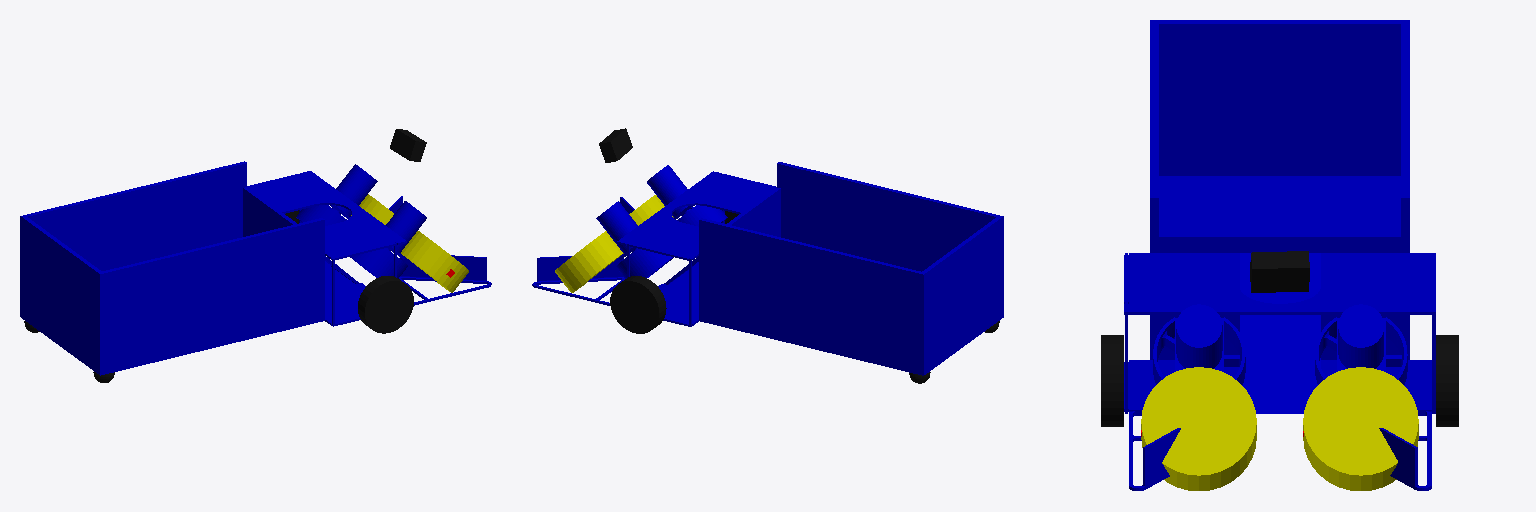
URDF robot description (tennis_bot):
<?xml version="1.0"?>
<robot name="tennis_bot">

  <!-- 註解方式 -->
  <link name="base_link">
  </link>

  <joint name="base_to_chassis" type="fixed">
    <parent link="base_link"/>
    <child link="front_chassis"/>
    <origin xyz="0 0 0.02" rpy="0 0 -1.5708"/>  
  </joint>
  <joint name="base_to_rear" type="fixed">
    <parent link="base_link"/>
    <child link="rear_basket"/>
    <origin xyz="0 -0.01 0" rpy="0 0 -1.5708"/> 
  </joint>
  
  <!-- 前車體 -->
  <link name="front_chassis">
    <visual>
      <geometry>
        <mesh filename="package://tennis_bot/urdf/meshes/front_chassis.stl" scale="0.001 0.001 0.001"/>
      </geometry>
      <material name="blue">
        <color rgba="0 0 0.8 1"/>
      </material>
    </visual>
    <inertial>
      <mass value="0.1"/>
      <inertia ixx="0.01" ixy="0.0" ixz="0.0" iyy="0.01" iyz="0.0" izz="0.01"/>
    </inertial>
  </link>
  
  <!-- 後車體 -->
  <link name="rear_basket">
    <visual>
      <geometry>
        <mesh filename="package://tennis_bot/urdf/meshes/rear_basket.stl" scale="0.001 0.001 0.001"/>
      </geometry>
      <material name="blue">
        <color rgba="0 0 0.8 1"/>
      </material>
    </visual>
    <collision>
      <geometry>
        <mesh filename="package://tennis_bot/urdf/meshes/rear_basket.stl" scale="0.001 0.001 0.001"/>
      </geometry>
    </collision>
    <inertial>
      <mass value="0.5"/>
      <inertia ixx="0.05" ixy="0.05" ixz="0.05" iyy="0.05" iyz="0.05" izz="0.05"/>
    </inertial>
  </link>

  <!-- 左滾輪 -->
  <link name="left_roller">
    <visual>
      <geometry><cylinder radius="0.05" length="0.04"/></geometry>
      <material name="blue"><color rgba="0.8 0.8 0 1"/></material>
    </visual>
    <visual>
      <origin xyz="0.045 0 0" rpy="0 0 0"/> <geometry><box size="0.01 0.01 0.01"/></geometry>
      <material name="red"><color rgba="1 0 0 1"/></material>
    </visual>
    <!-- 撿球改用物理滾輪：恢復碰撞 (原始版本就是半徑0.045)，海綿壓縮用下面 gazebo reference 的 kp/kd -->
    <collision>
      <geometry><cylinder radius="0.045" length="0.04"/></geometry>
    </collision>
    <inertial>
      <mass value="0.5"/>
      <inertia ixx="0.0005" ixy="0.0" ixz="0.0" iyy="0.0005" iyz="0.0" izz="0.0005"/>
    </inertial>
  </link>

  <joint name="left_roller_joint" type="continuous">
    <parent link="front_chassis"/>
    <child link="left_roller"/>
    <!--origin xyz="0.065 0.15 0.03" rpy="-0.785398 0 0"/-->
    <!-- 滾輪位置用 tennis_bot/record (5/13) 驗證成功、影片 47.webm 同款的 (y=0.2, z=0.03)。
         CAD 位置 (0.102322, 0.045104) 離後車廂 17.7cm 前擋牆只有 10cm，球被推到牆邊
         只能垂直彈起、永遠進不了車廂 (experiments/roller_pickup 實測)。 -->
    <origin xyz="0.065 0.2 0.03" rpy="-0.785398 0 0"/>
    <axis xyz="0 0 1"/>
  </joint>

  <!-- 右滾輪 -->
  <link name="right_roller">
    <visual>
      <geometry><cylinder radius="0.05" length="0.04"/></geometry>
      <material name="blue"><color rgba="0.8 0.8 0 1"/></material>
    </visual>
    <visual>
      <origin xyz="0.045 0 0" rpy="0 0 0"/> <geometry><box size="0.01 0.01 0.01"/></geometry>
      <material name="red"><color rgba="1 0 0 1"/></material>
    </visual>
    <!-- 撿球改用物理滾輪：恢復碰撞 (原始版本就是半徑0.045)，海綿壓縮用下面 gazebo reference 的 kp/kd -->
    <collision>
      <geometry><cylinder radius="0.045" length="0.04"/></geometry>
    </collision>
    <inertial>
      <mass value="0.5"/>
      <inertia ixx="0.0005" ixy="0.0" ixz="0.0" iyy="0.0005" iyz="0.0" izz="0.0005"/>
    </inertial>
  </link>

  <joint name="right_roller_joint" type="continuous">
    <parent link="front_chassis"/>
    <child link="right_roller"/>
    <!--origin xyz="0.205 0.15 0.03" rpy="-0.785398 0 0"/-->
    <origin xyz="0.205 0.2 0.03" rpy="-0.785398 0 0"/>
    <axis xyz="0 0 1"/>
  </joint>

  <!-- 左驅動輪 -->
  <link name="left_drive_wheel">
    <visual>
      <geometry>
        <cylinder radius="0.04" length="0.02"/>
      </geometry>
      <material name="black">
        <color rgba="0.1 0.1 0.1 1"/>
      </material>
    </visual>
    <collision>
      <geometry><cylinder radius="0.04" length="0.02"/></geometry>
      <surface><friction><ode><mu>5.0</mu><mu2>5.0</mu2></ode></friction></surface>
    </collision>
    <inertial>
      <mass value="0.2"/>
      <inertia ixx="0.01" ixy="0.0" ixz="0.0" iyy="0.01" iyz="0.0" izz="0.01"/>
    </inertial>
  </link>

  <joint name="left_wheel_joint" type="continuous">
    <parent link="front_chassis"/>
    <child link="left_drive_wheel"/>
    <origin xyz="-0.01 0.08 0.02" rpy="0 1.5708 0"/>
    <axis xyz="0 0 -1"/> 
  </joint>

  <!-- 右驅動輪 -->
  <link name="right_drive_wheel">
    <visual>
      <geometry>
        <cylinder radius="0.04" length="0.02"/>
      </geometry>
      <material name="black"/>
    </visual>
    <collision>
      <geometry><cylinder radius="0.04" length="0.02"/></geometry>
      <surface><friction><ode><mu>5.0</mu><mu2>5.0</mu2></ode></friction></surface>
    </collision>
    <inertial>
      <mass value="0.2"/>
      <inertia ixx="0.01" ixy="0.0" ixz="0.0" iyy="0.01" iyz="0.0" izz="0.01"/>
    </inertial>
  </link>

  <joint name="right_wheel_joint" type="continuous">
    <parent link="front_chassis"/>
    <child link="right_drive_wheel"/>
    <origin xyz="0.28 0.08 0.02" rpy="0 1.5708 0"/>
    <axis xyz="0 0 -1"/>
  </joint>

  <!-- 後車體左萬象輪 -->
  <link name="rear_left_caster">
    <visual>
      <geometry><sphere radius="0.015"/></geometry>
      <material name="black"/>
    </visual>
    <collision>
      <geometry><sphere radius="0.015"/></geometry>
      <surface><friction><ode><mu>0.0</mu><mu2>0.0</mu2></ode></friction></surface>
    </collision>
    <inertial>
      <mass value="0.1"/>
      <inertia ixx="0.0001" ixy="0.0" ixz="0.0" iyy="0.0001" iyz="0.0" izz="0.0001"/>
    </inertial>
  </link>

  <joint name="rear_left_caster_joint" type="fixed">
    <parent link="rear_basket"/>
    <child link="rear_left_caster"/>
    <origin xyz="0.028 -0.349 0.015" rpy="0 0 0"/>
  </joint>

  <!-- 後車體右萬象輪 -->
  <link name="rear_right_caster">
    <visual>
      <geometry><sphere radius="0.015"/></geometry>
      <material name="black"/>
    </visual>
    <collision>
      <geometry><sphere radius="0.015"/></geometry>
      <surface><friction><ode><mu>0.0</mu><mu2>0.0</mu2></ode></friction></surface>
    </collision>
    <inertial>
      <mass value="0.1"/>
      <inertia ixx="0.0001" ixy="0.0" ixz="0.0" iyy="0.0001" iyz="0.0" izz="0.0001"/>
    </inertial>
  </link>

  <joint name="rear_right_caster_joint" type="fixed">
    <parent link="rear_basket"/>
    <child link="rear_right_caster"/>
    <origin xyz="0.222 -0.349 0.015" rpy="0 0 0"/>
  </joint>



  <!-- gazebo 滾輪 -->
  <gazebo reference="left_roller">
    <material>Gazebo/Blue</material>
    <mu1>1.5</mu1>
    <mu2>1.5</mu2>
    <kp>150</kp>
    <kd>4.2</kd>
    <min_depth>0.001</min_depth>
    <max_vel>10</max_vel>
  </gazebo>
  <gazebo reference="right_roller">
    <material>Gazebo/Blue</material>
    <mu1>1.5</mu1>
    <mu2>1.5</mu2>
    <kp>150</kp>
    <kd>4.2</kd>
    <min_depth>0.001</min_depth>
    <max_vel>10</max_vel>
  </gazebo>
  
    <gazebo>
    <plugin name="roller_drive" filename="libgazebo_ros_diff_drive.so">
      <ros>
        <namespace>/</namespace>
        <remapping>cmd_vel:=roller_cmd</remapping>
        <remapping>odom:=roller_odom_dump</remapping>
      </ros>
      <left_joint>left_roller_joint</left_joint>
      <right_joint>right_roller_joint</right_joint>
      <wheel_separation>0.14</wheel_separation>
      <wheel_diameter>0.09</wheel_diameter>
      <max_wheel_torque>50.0</max_wheel_torque>
      <max_wheel_acceleration>10.0</max_wheel_acceleration>
      <publish_odom>false</publish_odom>
      <publish_odom_tf>false</publish_odom_tf>
      <publish_wheel_tf>false</publish_wheel_tf>
    </plugin>
  </gazebo>
  <gazebo>
    <plugin name="joint_state_publisher" filename="libgazebo_ros_joint_state_publisher.so">
      <ros>
        <namespace>/</namespace>
      </ros>
      <!-- 100 Hz：馬達模型 (motor_driver_node) 用這個封包時間戳當 10 ms 時鐘，跟 STM32 TIM6 同頻率 -->
      <update_rate>100</update_rate>
      <joint_name>left_wheel_joint</joint_name>
      <joint_name>right_wheel_joint</joint_name>
      <joint_name>left_roller_joint</joint_name>
      <joint_name>right_roller_joint</joint_name>
    </plugin>
  </gazebo>


  <!-- gazebo 驅動倫 -->
  <gazebo reference="left_drive_wheel">
    <mu1>200.0</mu1>
    <mu2>200.0</mu2>
    <material>Gazebo/Black</material>
  </gazebo>
  <gazebo reference="right_drive_wheel">
    <mu1>200.0</mu1>
    <mu2>200.0</mu2>
    <material>Gazebo/Black</material>
  </gazebo>

  <gazebo>
    <plugin name="diff_drive" filename="libgazebo_ros_diff_drive.so">
      <ros>
        <namespace>/</namespace>
        <remapping>cmd_vel:=cmd_vel</remapping>
        <remapping>odom:=odom</remapping>
      </ros>
      <left_joint>left_wheel_joint</left_joint>
      <right_joint>right_wheel_joint</right_joint>
      <!-- 0.29 = 模擬車左右驅動輪的真實距離 (原本寫 0.27，車體實際轉速只有指令的 0.27/0.29=93%)。
           加速度不在這裡限制 (0 = 不限制)：底盤加減速改由 motor_driver_node 的 STM32 PID + 馬達模型決定。 -->
      <wheel_separation>0.29</wheel_separation>
      <wheel_diameter>0.08</wheel_diameter>
      <max_wheel_torque>2.0</max_wheel_torque>
      <max_wheel_acceleration>0.0</max_wheel_acceleration>
      <publish_odom>true</publish_odom>
      <publish_odom_tf>true</publish_odom_tf>
      <publish_wheel_tf>true</publish_wheel_tf>
      <odometry_frame>odom</odometry_frame>
      <robot_base_frame>base_link</robot_base_frame>
    </plugin>
  </gazebo> 

<link name="camera_link">
    <visual>
      <geometry><box size="0.02 0.05 0.03"/></geometry>
      <material name="black"><color rgba="0.1 0.1 0.1 1"/></material>
    </visual>
    <inertial>
      <mass value="0.005"/>
      <inertia ixx="0.0001" ixy="0.0" ixz="0.0" iyy="0.0001" iyz="0.0" izz="0.0001"/>
    </inertial>
</link>

<joint name="camera_joint" type="fixed">
    <parent link="front_chassis"/>
    <child link="camera_link"/>
    <!-- 相機對應 D 同學實測校正 (2026-10-05)：D 程式 image_cx=283 (512 寬的畫面中心是 256)，正前方的球出現在中心右邊 27 px，
         等於相機光軸往左偏 atan(27/390)=3.96° -> 這裡 yaw 多加 0.0691 rad -->
    <!-- 2026-10-12 鏡頭高度/俯角照實體車數據擬合：10/02 的 13 組實測 (車子在地上追球，球距 24~148 cm)，用 D 程式記錄的
         球框大小 (距離) 跟球心所在的畫面列 (cy) 反推：離地 20.2 cm、往下俯 21.3°，殘差中位數 2 px。
         (原本 0.15 m、水平。) 鏡頭前後位置沒有實測：實體車畫面看不到滾輪，所以放在滾輪軸正上方 (base_link x=0.20)，
         這樣滾輪不會入鏡；等 A 的 CAD 再校正。左右位置 (y=-0.135) 跟往左偏 3.96° 不變。
         front_chassis 座標：y 軸 = base_link 前方 (x)、x 軸 = base_link 右方 (-y)，z 比 base_link 高 0.02 (用 tf2_echo 驗證過)。 -->
    <origin xyz="0.135 0.20 0.18" rpy="0 0.3718 1.6399"/> 
</joint>

<gazebo reference="camera_link">
    <sensor type="camera" name="tennis_camera">
      <update_rate>30.0</update_rate>
      <camera name="head">
        <!-- D 同學程式 FOCAL_LENGTH_PX=390 (512x384 輸入) -> 水平視角 2*atan(256/390) = 66.6° = 1.1626 rad (原本 80°) -->
        <horizontal_fov>1.1626</horizontal_fov>
        <image>
          <width>640</width>
          <height>480</height>
          <format>R8G8B8</format>
        </image>
        <clip>
          <near>0.02</near>
          <far>300</far>
        </clip>
      </camera>
      <plugin name="camera_controller" filename="libgazebo_ros_camera.so">
        <ros>
          <namespace>/</namespace>
          <remapping>~/image_raw:=tennis_camera/image_raw</remapping>
        </ros>
        <camera_name>tennis_camera</camera_name>
        <frame_name>camera_link</frame_name>
      </plugin>
    </sensor>
  </gazebo>

  <!-- 陀螺儀 (IMU)：直接量測車體真實角速度，不經過輪子，不受打滑影響。
       模擬真實化 R4：加上雜訊 + 零點偏移 (原本沒有 <noise> = 完美無誤差)，對應實體車 BNO080：
       - 白雜訊：BNO080 沒公開陀螺儀雜訊密度，用同家族 BMI055 規格 0.014 °/s/√Hz，
         1000Hz 取樣每筆標準差 = 0.014*√1000 = 0.44 °/s = 0.0077 rad/s
       - 零點偏移：BNO080 規格書 Game Rotation Vector 航向漂移 0.5 °/min = 1.45e-4 rad/s，
         當作校正後殘留的偏移 (Gazebo 每次開機隨機抽一個偏移值，正負號隨機)
       base_link 完全是空的 (沒有 inertial)，感測器直接掛上去 Gazebo 沒有正確
       產生 /imu topic，所以跟 camera_link 一樣另外開一個小 link 掛感測器。 -->
  <link name="imu_link">
    <inertial>
      <mass value="0.001"/>
      <inertia ixx="0.00001" ixy="0.0" ixz="0.0" iyy="0.00001" iyz="0.0" izz="0.00001"/>
    </inertial>
  </link>

  <joint name="imu_joint" type="fixed">
    <parent link="base_link"/>
    <child link="imu_link"/>
    <origin xyz="0 -0.135 0" rpy="0 0 0"/>
  </joint>

  <gazebo reference="imu_link">
    <sensor name="imu_sensor" type="imu">
      <always_on>true</always_on>
      <update_rate>1000</update_rate>
      <visualize>true</visualize>
      <imu>
        <angular_velocity>
          <x><noise type="gaussian"><mean>0.0</mean><stddev>0.0077</stddev><bias_mean>0.000145</bias_mean><bias_stddev>0.00005</bias_stddev></noise></x>
          <y><noise type="gaussian"><mean>0.0</mean><stddev>0.0077</stddev><bias_mean>0.000145</bias_mean><bias_stddev>0.00005</bias_stddev></noise></y>
          <z><noise type="gaussian"><mean>0.0</mean><stddev>0.0077</stddev><bias_mean>0.000145</bias_mean><bias_stddev>0.00005</bias_stddev></noise></z>
        </angular_velocity>
      </imu>
      <plugin name="imu_plugin" filename="libgazebo_ros_imu_sensor.so">
        <ros>
          <namespace>/</namespace>
          <remapping>~/out:=imu</remapping>
        </ros>
        <initial_orientation_as_reference>false</initial_orientation_as_reference>
      </plugin>
    </sensor>
  </gazebo>

</robot>

--- Facts derived from the render (not from the file) ---
3 views of the same robot in one strip: view 1: azimuth 30°, elevation 25°; view 2: azimuth 150°, elevation 25°; view 3: azimuth 270°, elevation 25° (orthographic).
Robot: tennis_bot — 11 links, 10 joints (4 continuous, 6 fixed); root link base_link; default pose: every joint at zero.
Links seen in each view (by area): view 1: rear_basket, front_chassis, right_drive_wheel, right_roller, camera_link; view 2: rear_basket, front_chassis, left_drive_wheel, left_roller, camera_link; view 3: rear_basket, front_chassis, left_roller, right_roller, camera_link, left_drive_wheel, right_drive_wheel.
Link boxes in pixels (x1,y1,x2,y2): rear_basket: (20, 161, 324, 375); front_chassis: (247, 164, 491, 326); right_drive_wheel: (358, 276, 413, 333); right_roller: (401, 231, 468, 292); camera_link: (390, 129, 426, 161); rear_basket: (699, 162, 1003, 375); front_chassis: (532, 165, 775, 326); left_drive_wheel: (610, 276, 666, 333); left_roller: (555, 231, 623, 292); camera_link: (599, 128, 632, 162); rear_basket: (1150, 20, 1409, 359); front_chassis: (1124, 253, 1435, 490); left_roller: (1303, 367, 1418, 490); right_roller: (1141, 367, 1256, 490); camera_link: (1250, 251, 1309, 292); left_drive_wheel: (1436, 335, 1458, 426); right_drive_wheel: (1101, 335, 1123, 426).
Bounding box of the posed robot: 0.627 × 0.31 × 0.2176 m (x, y, z).
Meshes: 2 distinct files referenced, 2 mesh visuals loaded (2 binary STL).
